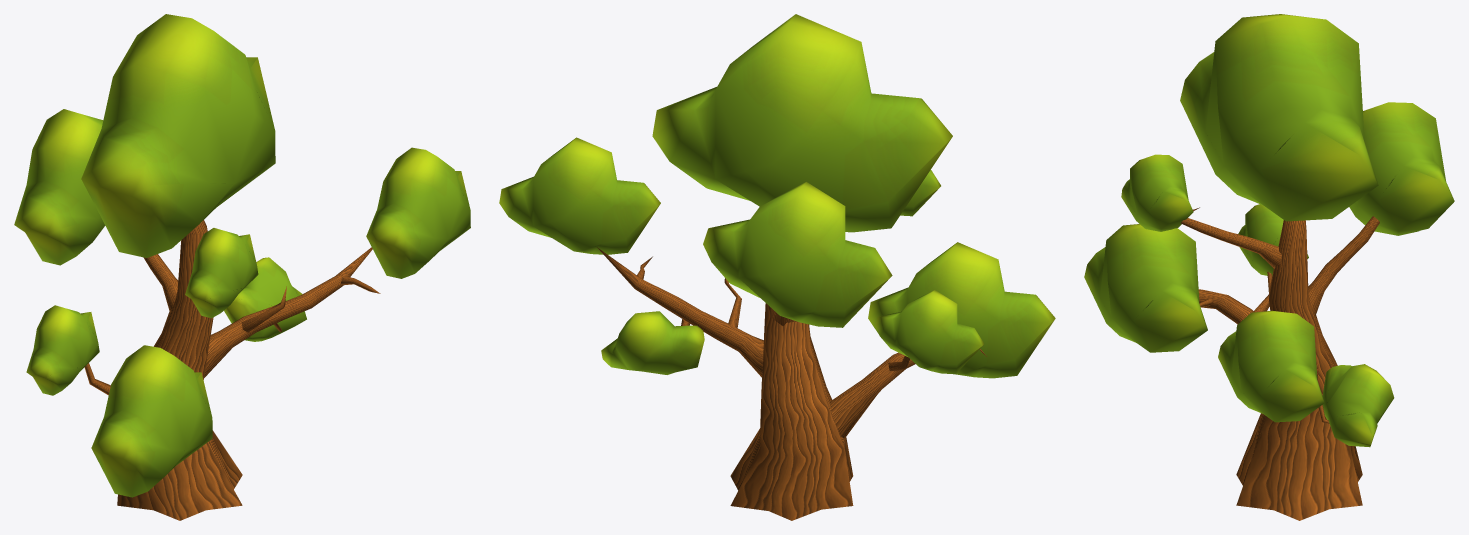
Rendered from tree_14.fbx.
3 renders of one model, left to right at view 1: azimuth 30°, elevation 25°; view 2: azimuth 150°, elevation 25°; view 3: azimuth 270°, elevation 25°, orthographic. The views are drawn at different scales.
Visible parts, largest first — view 1: leaf_tree_14:Group1, Trunc02, Group1, Group5, Group2, Group6, Group4, Group3; view 2: leaf_tree_14:Group1, Trunc02, Group5, Group2, Group1, Group6, Group3, Group4; view 3: leaf_tree_14:Group1, Trunc02, Group1, Group5, Group2, Group3, Group4, Group6.
Boxes of the visible parts, left/top/right/bottom form: leaf_tree_14:Group1: left=81, top=14, right=275, bottom=257; Trunc02: left=84, top=220, right=380, bottom=520; Group1: left=91, top=345, right=212, bottom=497; Group5: left=14, top=109, right=105, bottom=265; Group2: left=366, top=147, right=470, bottom=278; Group6: left=26, top=305, right=99, bottom=395; Group4: left=185, top=228, right=258, bottom=318; Group3: left=224, top=257, right=306, bottom=341; leaf_tree_14:Group1: left=652, top=14, right=952, bottom=232; Trunc02: left=597, top=247, right=986, bottom=520; Group5: left=703, top=182, right=892, bottom=327; Group2: left=499, top=137, right=660, bottom=254; Group1: left=868, top=242, right=1055, bottom=378; Group6: left=875, top=290, right=984, bottom=374; Group3: left=601, top=311, right=704, bottom=374; Group4: left=900, top=170, right=940, bottom=216; leaf_tree_14:Group1: left=1180, top=14, right=1378, bottom=221; Trunc02: left=1181, top=207, right=1379, bottom=520; Group1: left=1084, top=224, right=1207, bottom=352; Group5: left=1349, top=102, right=1454, bottom=235; Group2: left=1218, top=310, right=1324, bottom=422; Group3: left=1322, top=364, right=1394, bottom=447; Group4: left=1121, top=154, right=1193, bottom=231; Group6: left=1238, top=204, right=1308, bottom=275.
Bounding box in the file's own units: 75.35 × 73.26 × 51.54.
